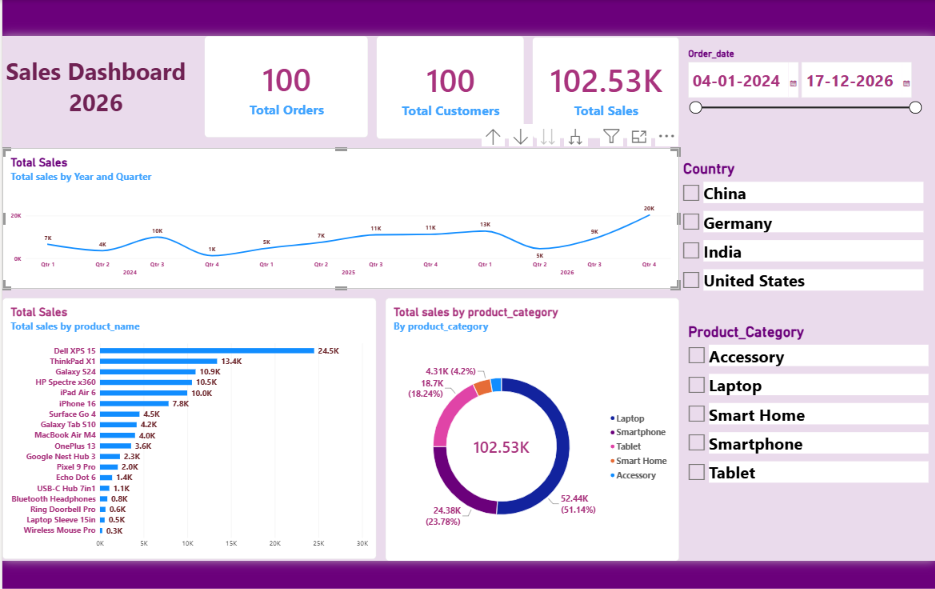

This screenshot's page, from the dashboard's own definition file:
{"tool":"powerbi","page":{"name":"Page 1","canvas":[1920,1080],"ordinal":0},"visuals":[{"type":"barChart","title":"Total Sales","fields":{"Category":["orders.product_name"],"Y":["Sum(orders.sales)"]},"box":[0,539.3,769.8,537.2],"z":0},{"type":"donutChart","title":"Total sales by product_category","fields":{"Category":["orders.product_category"],"Y":["Sum(orders.sales)"]},"box":[788.3,539.3,605.1,541.3],"z":1000},{"type":"cardVisual","fields":{"Data":["CountNonNull(orders.order_id)"]},"box":[415.8,0,337.6,209.9],"z":2000},{"type":"cardVisual","fields":{"Data":["CountNonNull(orders.customer_id)"]},"box":[769.8,0,304.6,212],"z":3000},{"type":"cardVisual","fields":{"Data":["Sum(orders.sales)"]},"box":[1090.9,2.1,302.6,209.9],"z":4000},{"type":"lineChart","title":"Total Sales","fields":{"Category":["orders.order_date.Variation.Date Hierarchy.Year","orders.order_date.Variation.Date Hierarchy.Quarter","orders.order_date.Variation.Date Hierarchy.Month","orders.order_date.Variation.Date Hierarchy.Day"],"Y":["Sum(orders.sales)"]},"box":[0,230.5,1393.5,290.2],"z":5000},{"type":"slicer","fields":{"Values":["customers.country"]},"box":[1393.5,255.2,502.2,306.7],"z":6000},{"type":"slicer","fields":{"Values":["orders.product_category"]},"box":[1403.8,590.7,502.2,335.5],"z":7000},{"type":"slicer","fields":{"Values":["orders.order_date"]},"box":[1403.8,24.7,491.9,187.3],"z":8000},{"type":"textbox","box":[1404,927,502,153],"z":9000},{"type":"textbox","box":[0,2.1,384.9,205.8],"z":10000}]}

Visuals, with their boxes on the page's 1920x1080 design canvas (x1, y1, x2, y2). These are canvas units, not pixel positions in the 935x589 screenshot, which may show the page scaled, cropped or inside an application window:
"Total Sales" barChart: 0 539 770 1076
"Total sales by product_category" donutChart: 788 539 1393 1081
cardVisual - CountNonNull(orders.order_id): 416 0 753 210
cardVisual - CountNonNull(orders.customer_id): 770 0 1074 212
cardVisual - Sum(orders.sales): 1091 2 1394 212
"Total Sales" lineChart: 0 230 1394 521
slicer - customers.country: 1394 255 1896 562
slicer - orders.product_category: 1404 591 1906 926
slicer - orders.order_date: 1404 25 1896 212
textbox: 1404 927 1906 1080
textbox: 0 2 385 208
